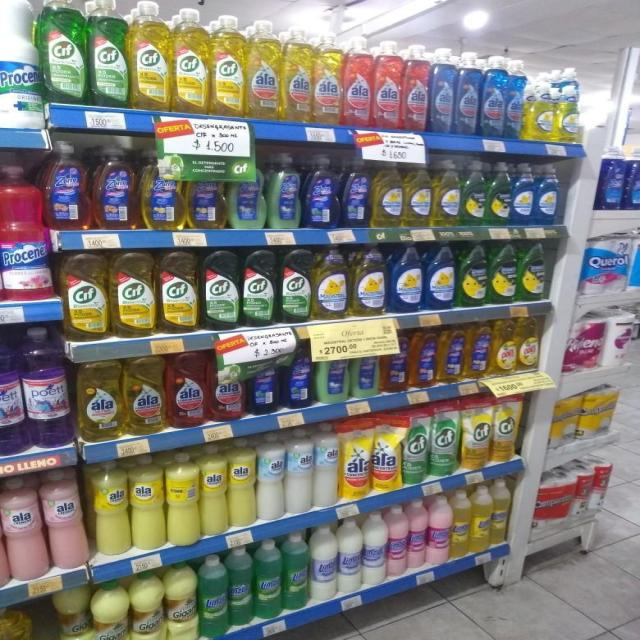ala_conc_amarillo: (76, 357, 122, 442), (246, 18, 281, 120), (124, 354, 166, 436), (282, 24, 312, 123), (314, 31, 342, 124)
ala_conc_azul: (455, 50, 480, 135), (430, 46, 454, 134), (481, 54, 506, 136), (506, 58, 525, 138)
ala_conc_rojo: (168, 350, 208, 428), (373, 39, 402, 130), (343, 37, 372, 127), (210, 352, 246, 422), (402, 43, 429, 132)
ala_crem_amarillo: (89, 459, 129, 556), (130, 454, 165, 551), (166, 451, 199, 546), (200, 443, 228, 537), (228, 438, 256, 528)
ala_crem_blanco: (257, 433, 284, 521), (285, 427, 312, 515), (313, 423, 340, 508)
ala_crem_rosado: (1, 476, 44, 582), (44, 468, 86, 570), (0, 477, 7, 590)
ala_sachet_amarillo: (341, 419, 370, 500), (372, 416, 402, 492)
cif_conc_bot_amarilla: (130, 0, 170, 110), (63, 251, 109, 341), (111, 250, 155, 338), (173, 8, 209, 114), (210, 14, 245, 116), (158, 249, 198, 334)
cif_conc_botella_verde: (41, 0, 85, 105), (88, 0, 128, 108), (201, 248, 240, 330), (242, 247, 276, 327), (278, 246, 311, 324)
cif_conc_sachet_amarillo: (462, 398, 491, 470), (492, 395, 520, 463)
cif_conc_sachet_verde: (431, 404, 458, 477), (403, 412, 429, 484)
magistral_con_amarillo: (312, 246, 348, 320), (351, 244, 387, 316), (554, 66, 582, 143), (372, 158, 402, 228), (432, 158, 460, 228), (526, 71, 554, 141), (404, 160, 432, 228)
magistral_con_azul: (389, 242, 423, 314), (425, 240, 455, 310), (535, 163, 562, 227), (511, 162, 534, 226)
zorro: (45, 142, 88, 230), (92, 145, 136, 230), (140, 151, 183, 230), (228, 153, 266, 230), (303, 153, 339, 229), (268, 152, 301, 229), (186, 177, 226, 230), (341, 156, 370, 228), (438, 324, 464, 384), (466, 321, 490, 379)
